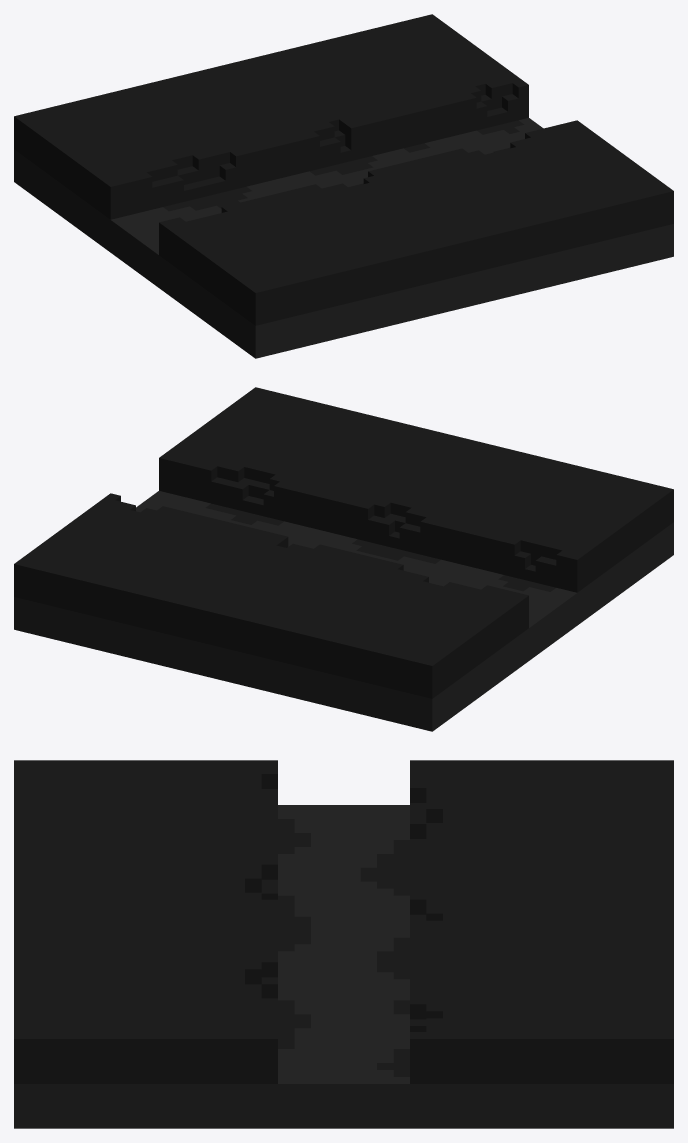
Rendered from Straight Path Vulcano Tile 1.obj.
3 renders of one model, top to bottom at view 1: azimuth 30°, elevation 25°; view 2: azimuth 150°, elevation 25°; view 3: azimuth 270°, elevation 25°, orthographic. The views are drawn at different scales.
Bounding box in the file's own units: 8 × 1.2 × 8.
1 material, 1 textured.
